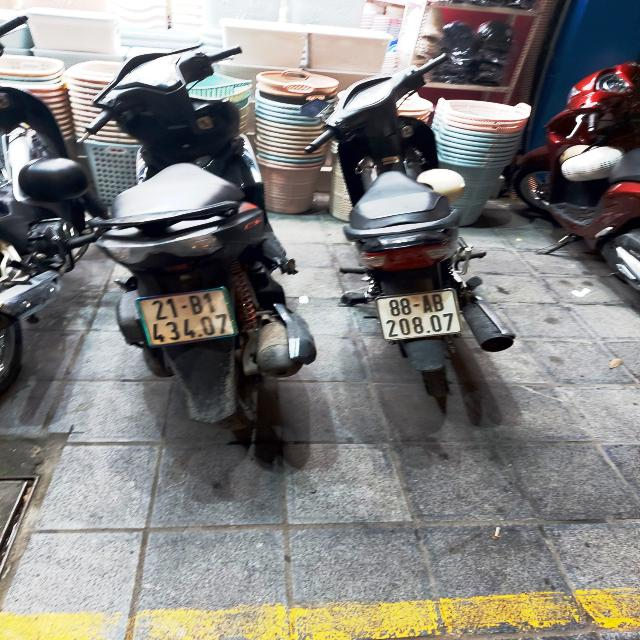license_plate: (132, 287, 242, 351), (374, 287, 467, 343)
